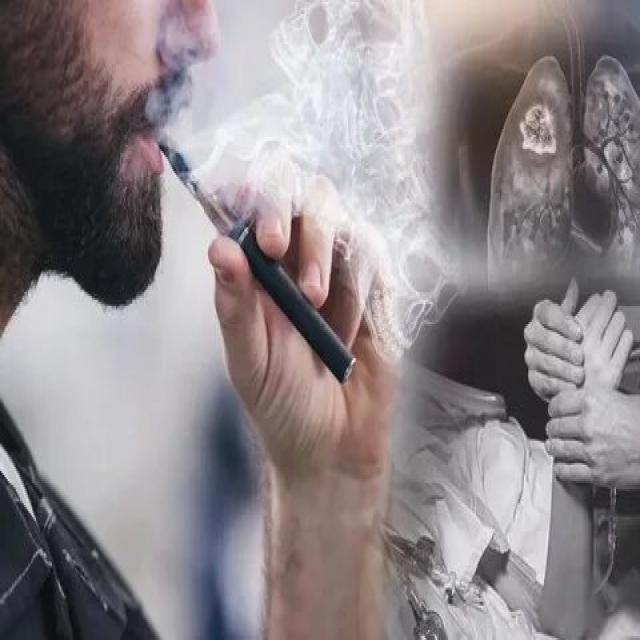smoke: (160, 127, 357, 398)
